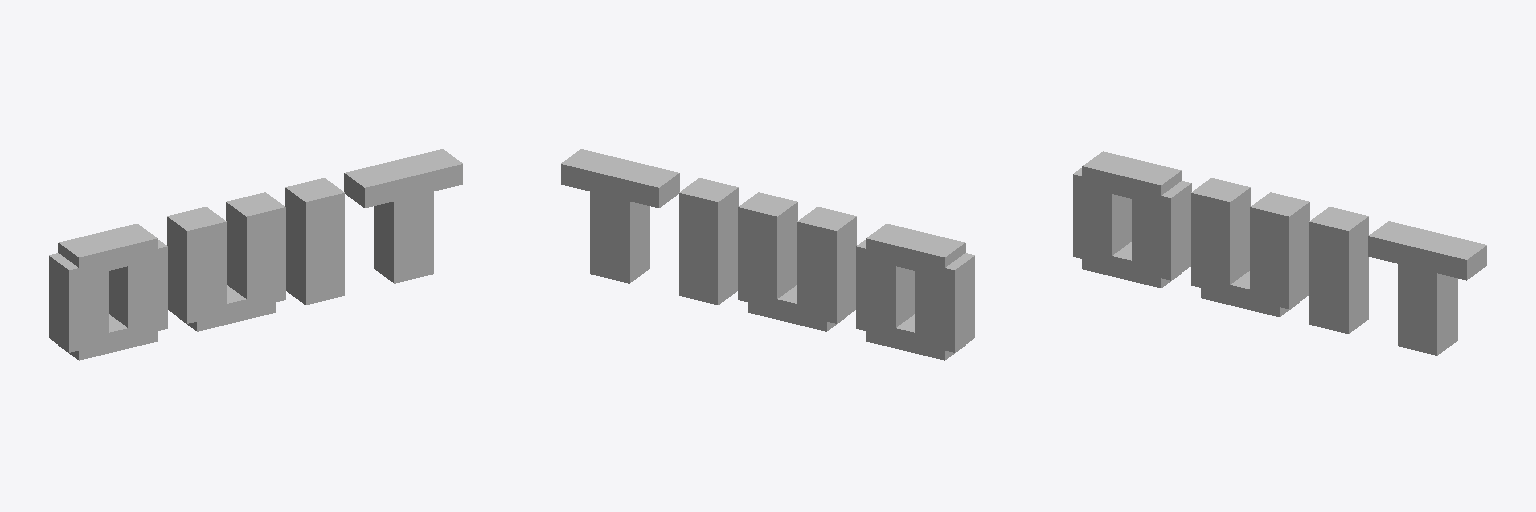
File: menuQuit.obj
3 views of the same model, side by side, from view 1: azimuth 30°, elevation 25°; view 2: azimuth 150°, elevation 25°; view 3: azimuth 330°, elevation 25° (orthographic).
Parts seen in each view (by area): view 1: テキスト; view 2: テキスト; view 3: テキスト.
Boxes of the visible parts, x1=… form: テキスト: x1=49, y1=149, x2=462, y2=360; テキスト: x1=561, y1=149, x2=974, y2=360; テキスト: x1=1073, y1=151, x2=1486, y2=355.
Bounding box in the file's own units: 3.33 × 0.8333 × 0.3.